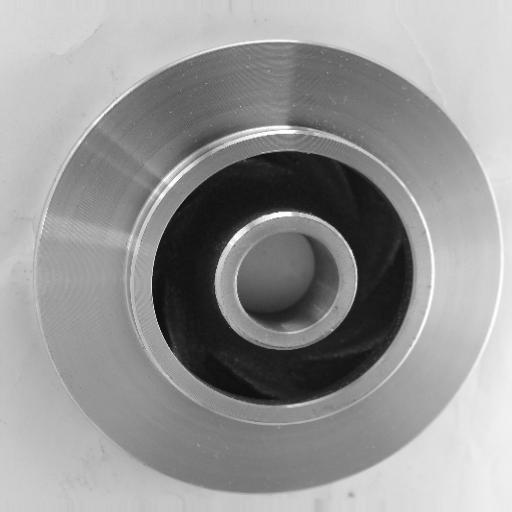polished_casting: (33, 36, 505, 497)
